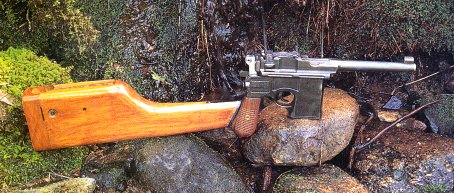rifle: (25, 55, 419, 155)
